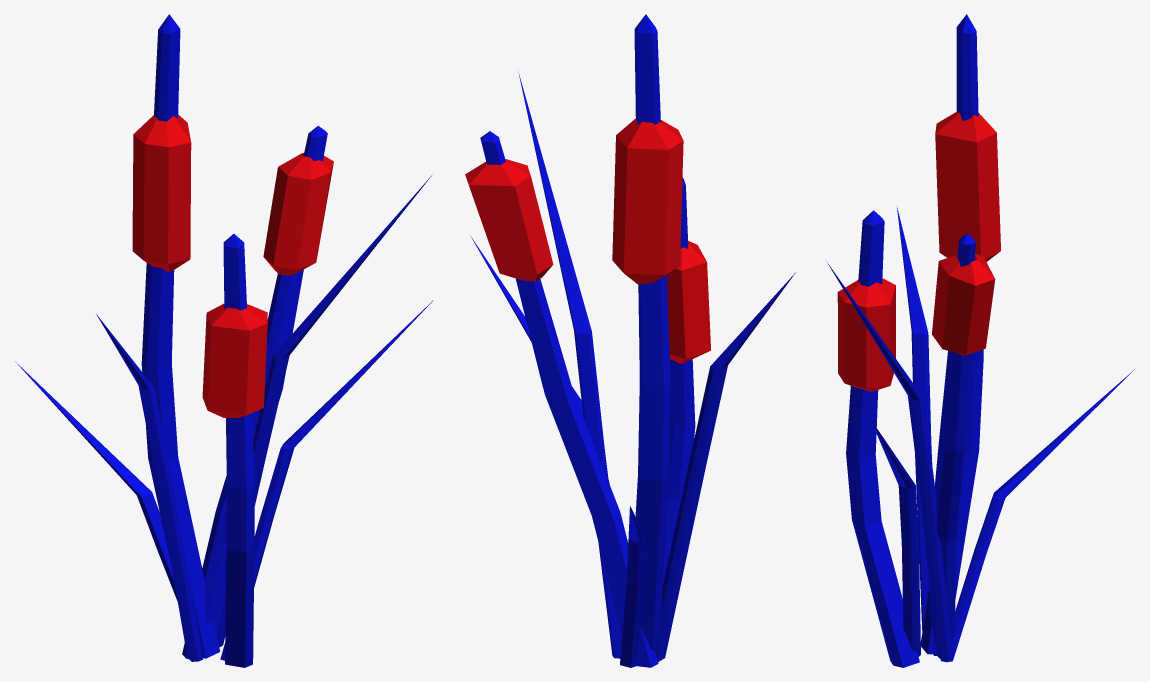
Rendered from SM_Reed4.fbx.
3 views of the same model, side by side, from view 1: azimuth 30°, elevation 25°; view 2: azimuth 150°, elevation 25°; view 3: azimuth 270°, elevation 25° (orthographic). The views are drawn at different scales.
Visible parts, largest first — view 1: SM_Reed4; view 2: SM_Reed4; view 3: SM_Reed4.
Part boxes in pixels (x1,y1,x2,y2): SM_Reed4: (15,14,433,667); SM_Reed4: (465,14,795,667); SM_Reed4: (826,14,1133,667).
Size of the model in its own units: 40.6 by 75.46 by 33.58.
